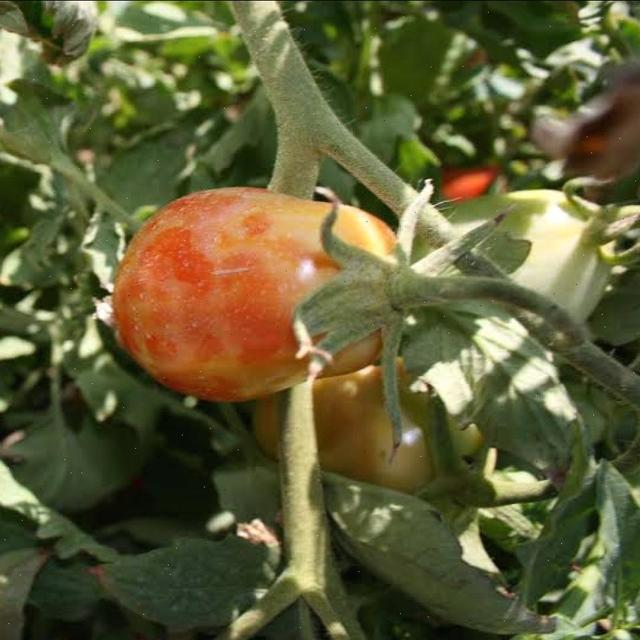Spotted wilt Virus Fruit: (72, 124, 273, 270)
